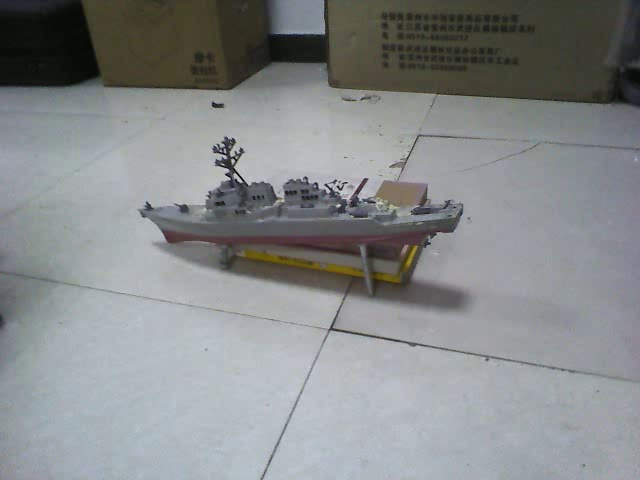warship: (133, 136, 468, 241)
